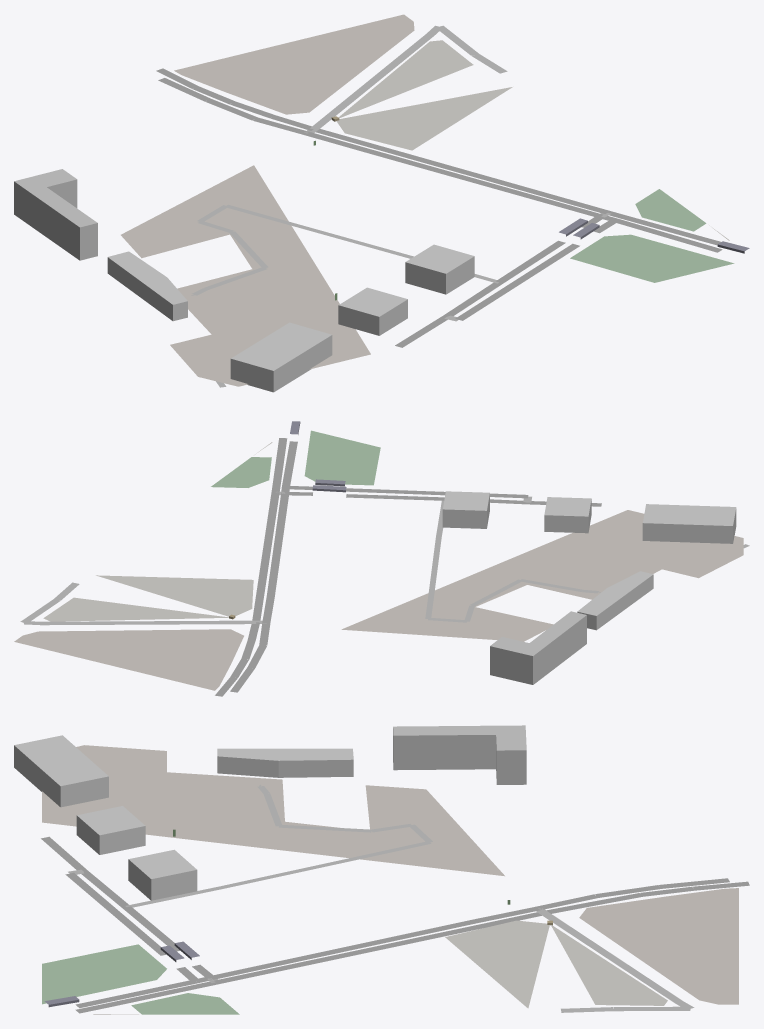
3 renders of one model, top to bottom at view 1: azimuth 30°, elevation 25°; view 2: azimuth 150°, elevation 25°; view 3: azimuth 270°, elevation 25°, orthographic. The views are drawn at different scales.
Size of the model in its own units: 464 by 28.47 by 528.
